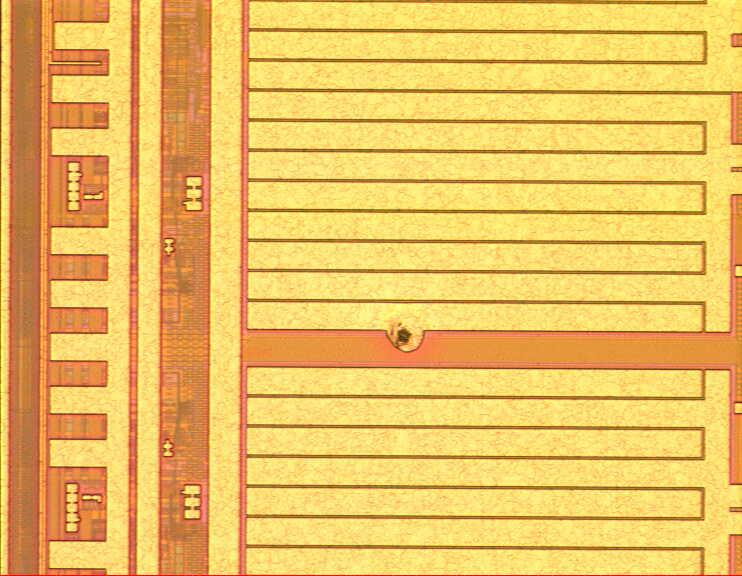BLOCK ETCH: (383, 310, 431, 358)
